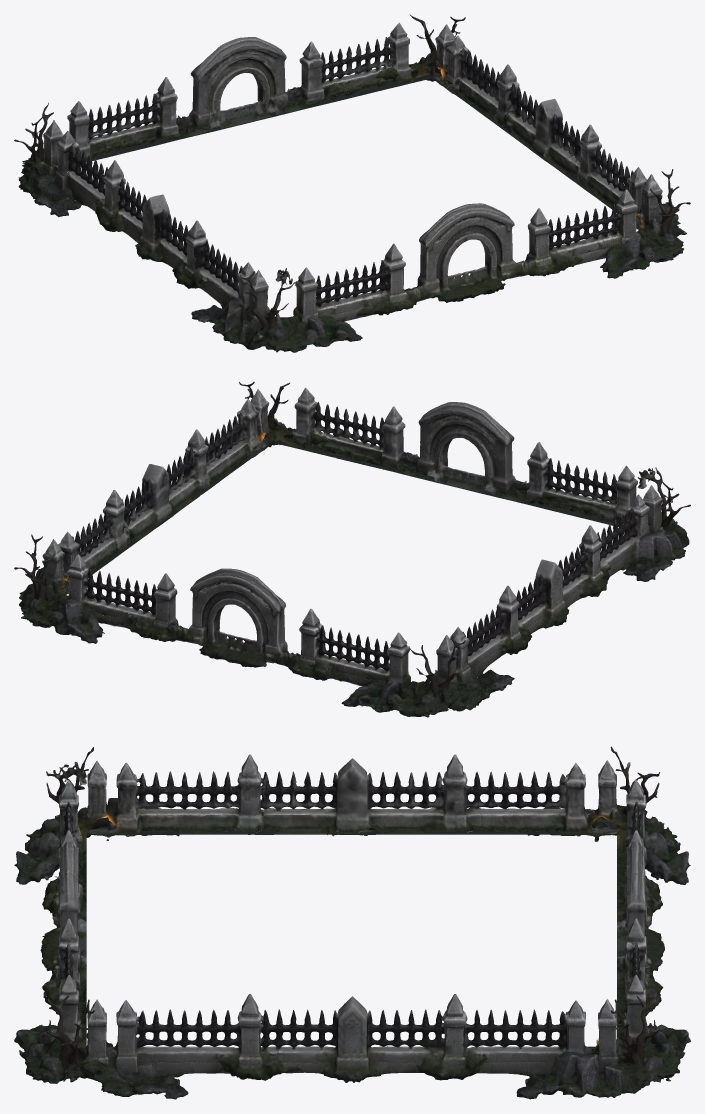
Rendered from trench-perimeter.glb.
3 renders of one model, top to bottom at view 1: azimuth 30°, elevation 25°; view 2: azimuth 150°, elevation 25°; view 3: azimuth 270°, elevation 25°, orthographic. The views are drawn at different scales.
Parts seen in each view (by area): view 1: Trench_Perimeter; view 2: Trench_Perimeter; view 3: Trench_Perimeter.
Part boxes in pixels (bbox=[...]): Trench_Perimeter: bbox=[14, 14, 690, 352]; Trench_Perimeter: bbox=[14, 381, 690, 717]; Trench_Perimeter: bbox=[14, 746, 690, 1099].
Bounding box in the file's own units: 1.88 × 0.3426 × 1.86.
1 material, 1 textured.
